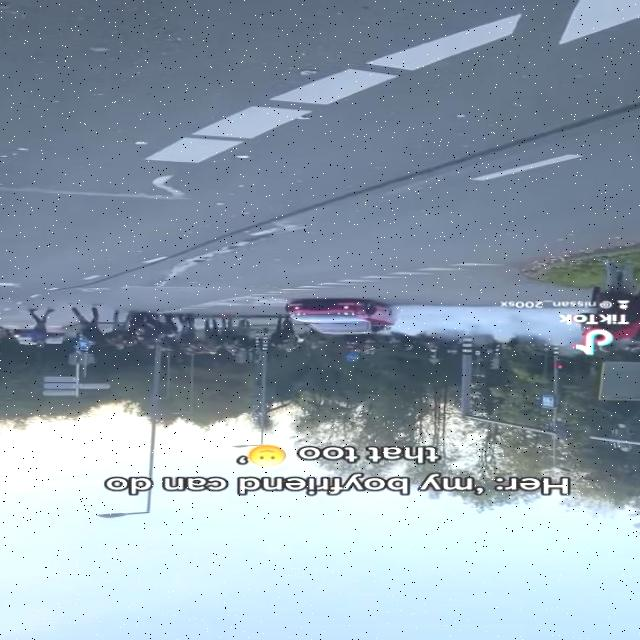car: (281, 298, 398, 337)
